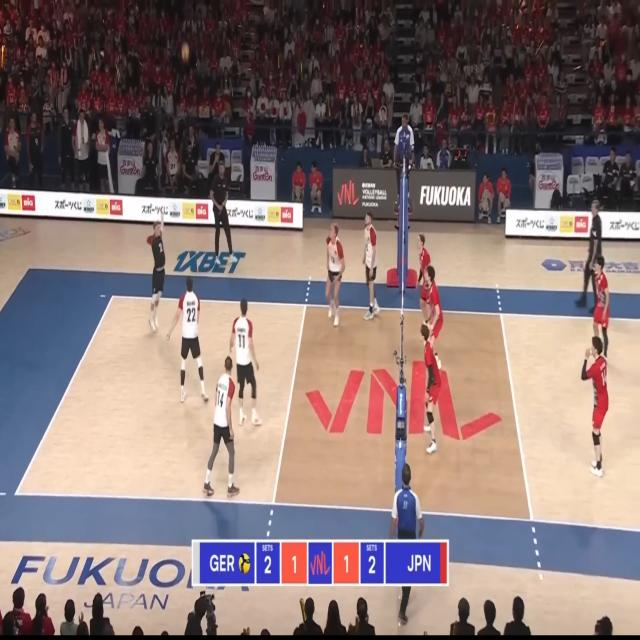ball: (182, 45, 189, 60)
